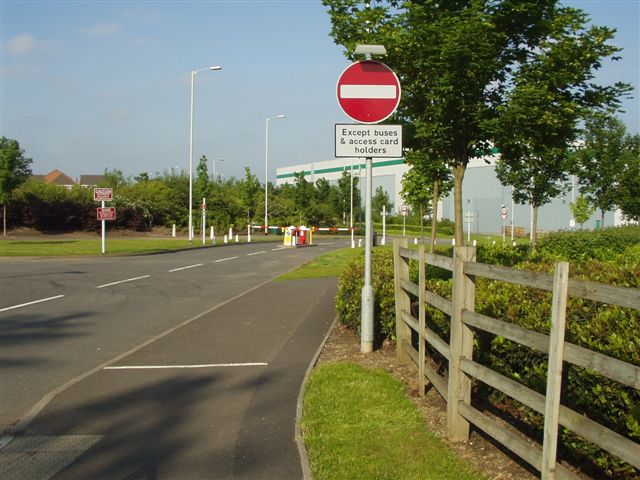No_entry: (335, 59, 402, 124)
